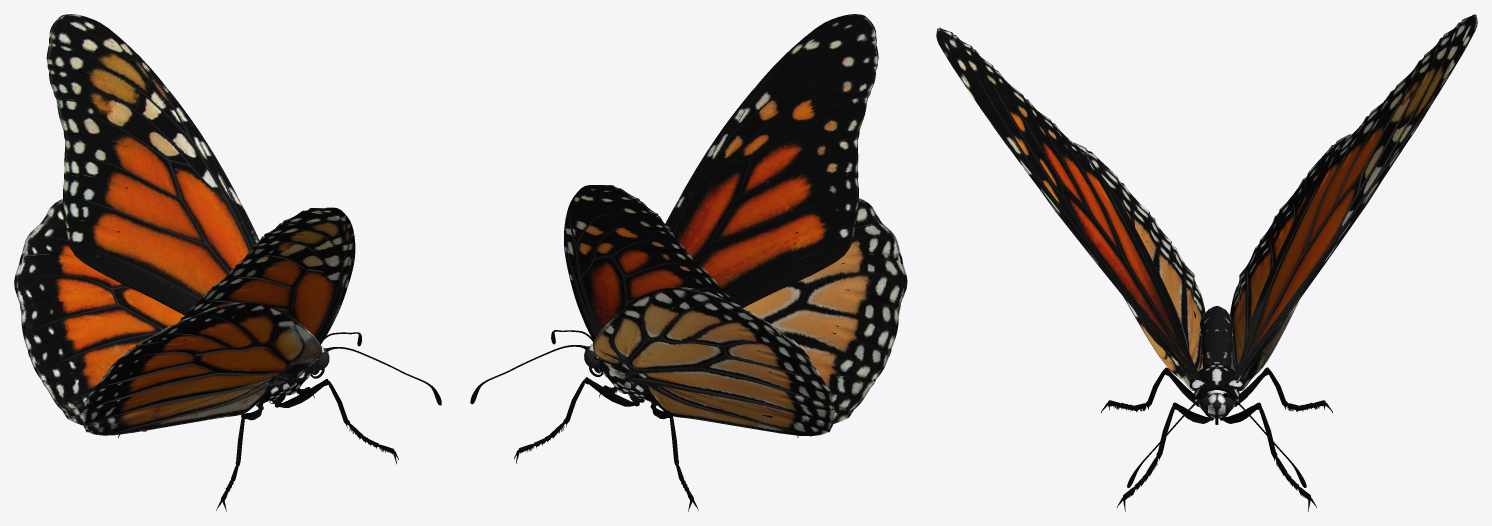
Rendered from Monarch Butterfly.glb.
3 views of the same model, side by side, from view 1: azimuth 30°, elevation 25°; view 2: azimuth 150°, elevation 25°; view 3: azimuth 270°, elevation 25° (orthographic). The views are drawn at different scales.
Parts seen in each view (by area): view 1: Abdomen.001_Abdomen.002; view 2: Abdomen.001_Abdomen.002; view 3: Abdomen.001_Abdomen.002.
Boxes of the visible parts, x1,y1,x2,y2 form: Abdomen.001_Abdomen.002: (14, 14, 441, 511); Abdomen.001_Abdomen.002: (470, 14, 907, 511); Abdomen.001_Abdomen.002: (936, 14, 1477, 511).
Size of the model in its own units: 10.45 by 10.73 by 13.04.
2 materials, 2 textured.
